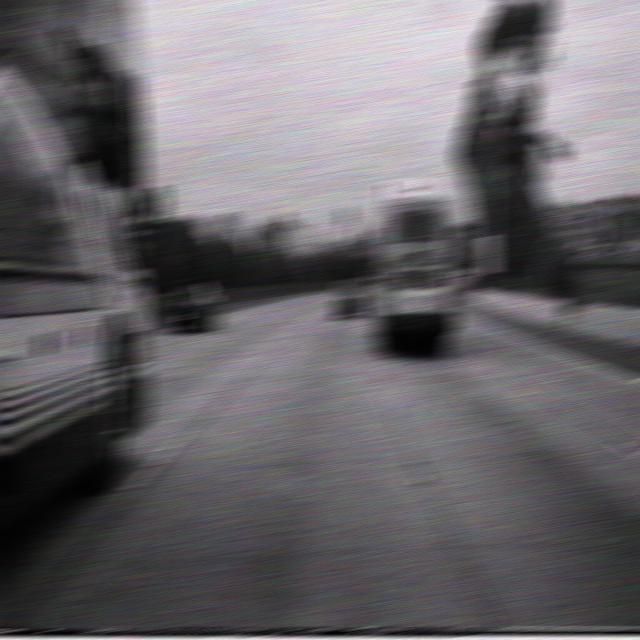speedLimit65: (478, 235, 498, 262)
